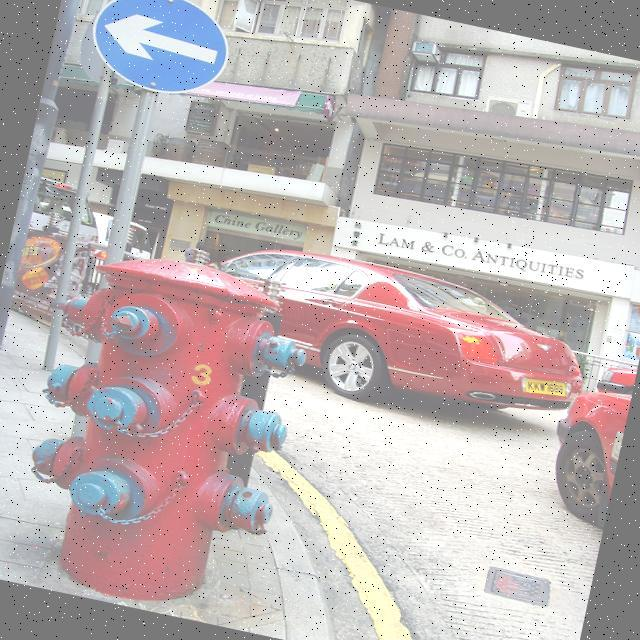fire_hydrant: (0, 221, 321, 623)
